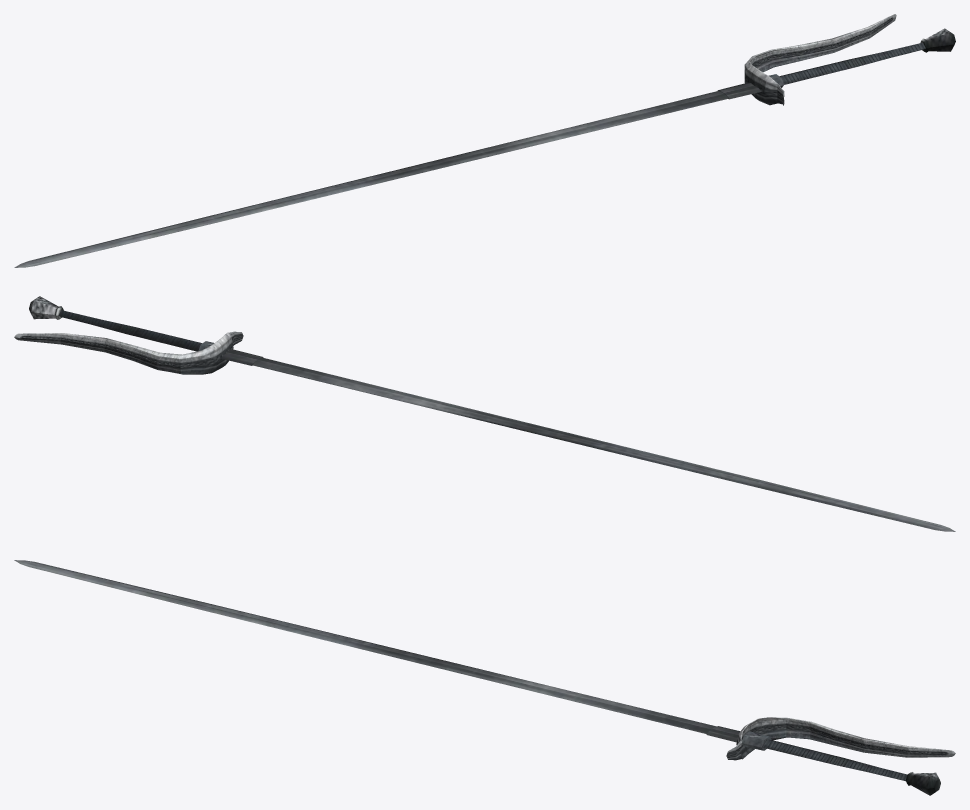
The model's file is 2H_SIGI_ESTOC_02.glb.
3 renders of one model, top to bottom at view 1: azimuth 30°, elevation 25°; view 2: azimuth 150°, elevation 25°; view 3: azimuth 330°, elevation 25°, orthographic.
Parts seen in each view (by area): view 1: 2H_SIGI_ESTOC_02; view 2: 2H_SIGI_ESTOC_02; view 3: 2H_SIGI_ESTOC_02.
Part boxes in pixels (<box>): 2H_SIGI_ESTOC_02: <box>14,14,955,267</box>; 2H_SIGI_ESTOC_02: <box>14,296,955,531</box>; 2H_SIGI_ESTOC_02: <box>14,560,955,795</box>.
Size of the model in its own units: 1.54 by 0.0472 by 0.1714.
1 material, 1 textured.
